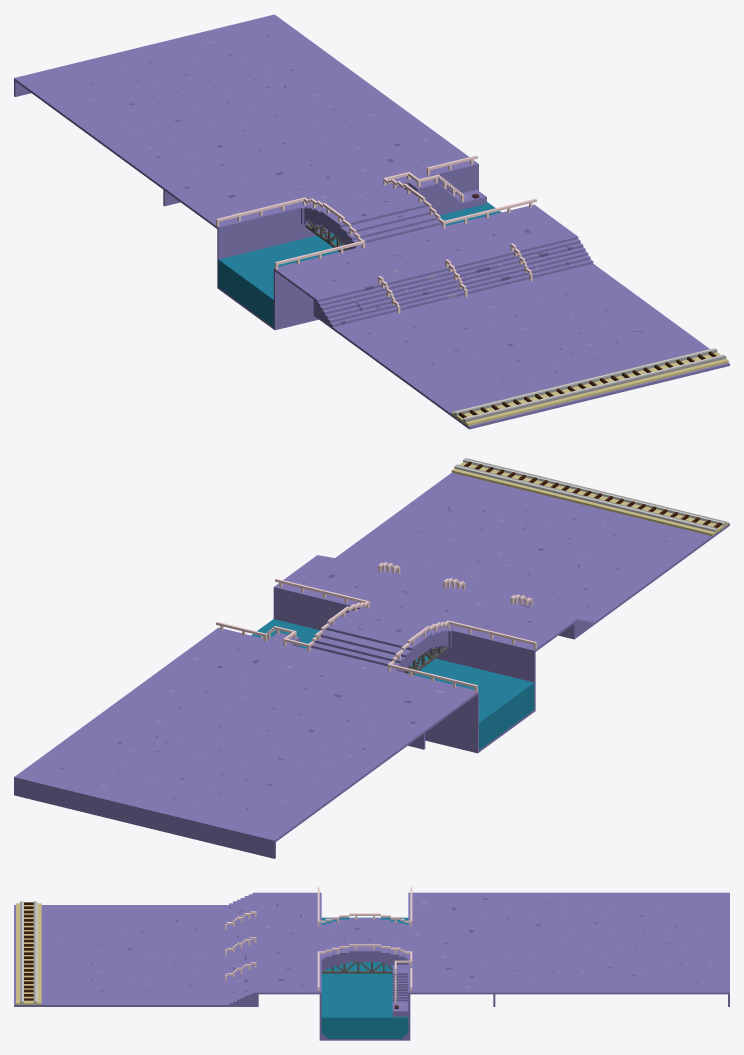
File: map.obj
3 renders of one model, top to bottom at view 1: azimuth 30°, elevation 25°; view 2: azimuth 150°, elevation 25°; view 3: azimuth 270°, elevation 25°, orthographic. The views are drawn at different scales.
Visible parts, largest first — view 1: map1, map2, map3; view 2: map3, map2, map1; view 3: map2, map1, map3.
Boxes of the visible parts, left/top/right/bottom form: map1: left=315, top=235, right=729, bottom=429; map2: left=164, top=124, right=575, bottom=330; map3: left=14, top=14, right=424, bottom=206; map3: left=14, top=667, right=425, bottom=858; map2: left=165, top=557, right=575, bottom=753; map1: left=315, top=458, right=729, bottom=638; map2: left=256, top=887, right=493, bottom=1040; map1: left=14, top=892, right=256, bottom=1006; map3: left=493, top=892, right=729, bottom=1006.
Size of the model in its own units: 120 by 34 by 363.
